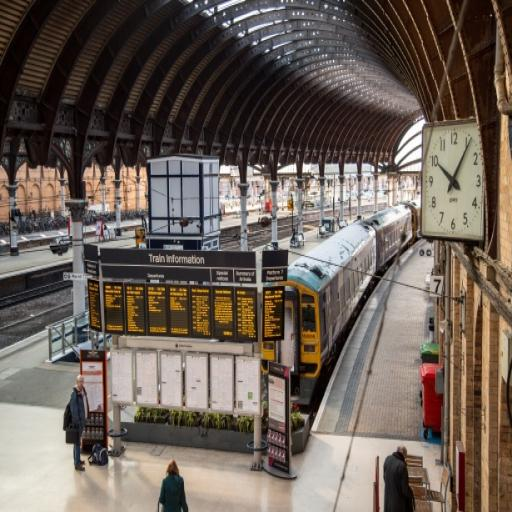platform_edge: (314, 262, 394, 445)
